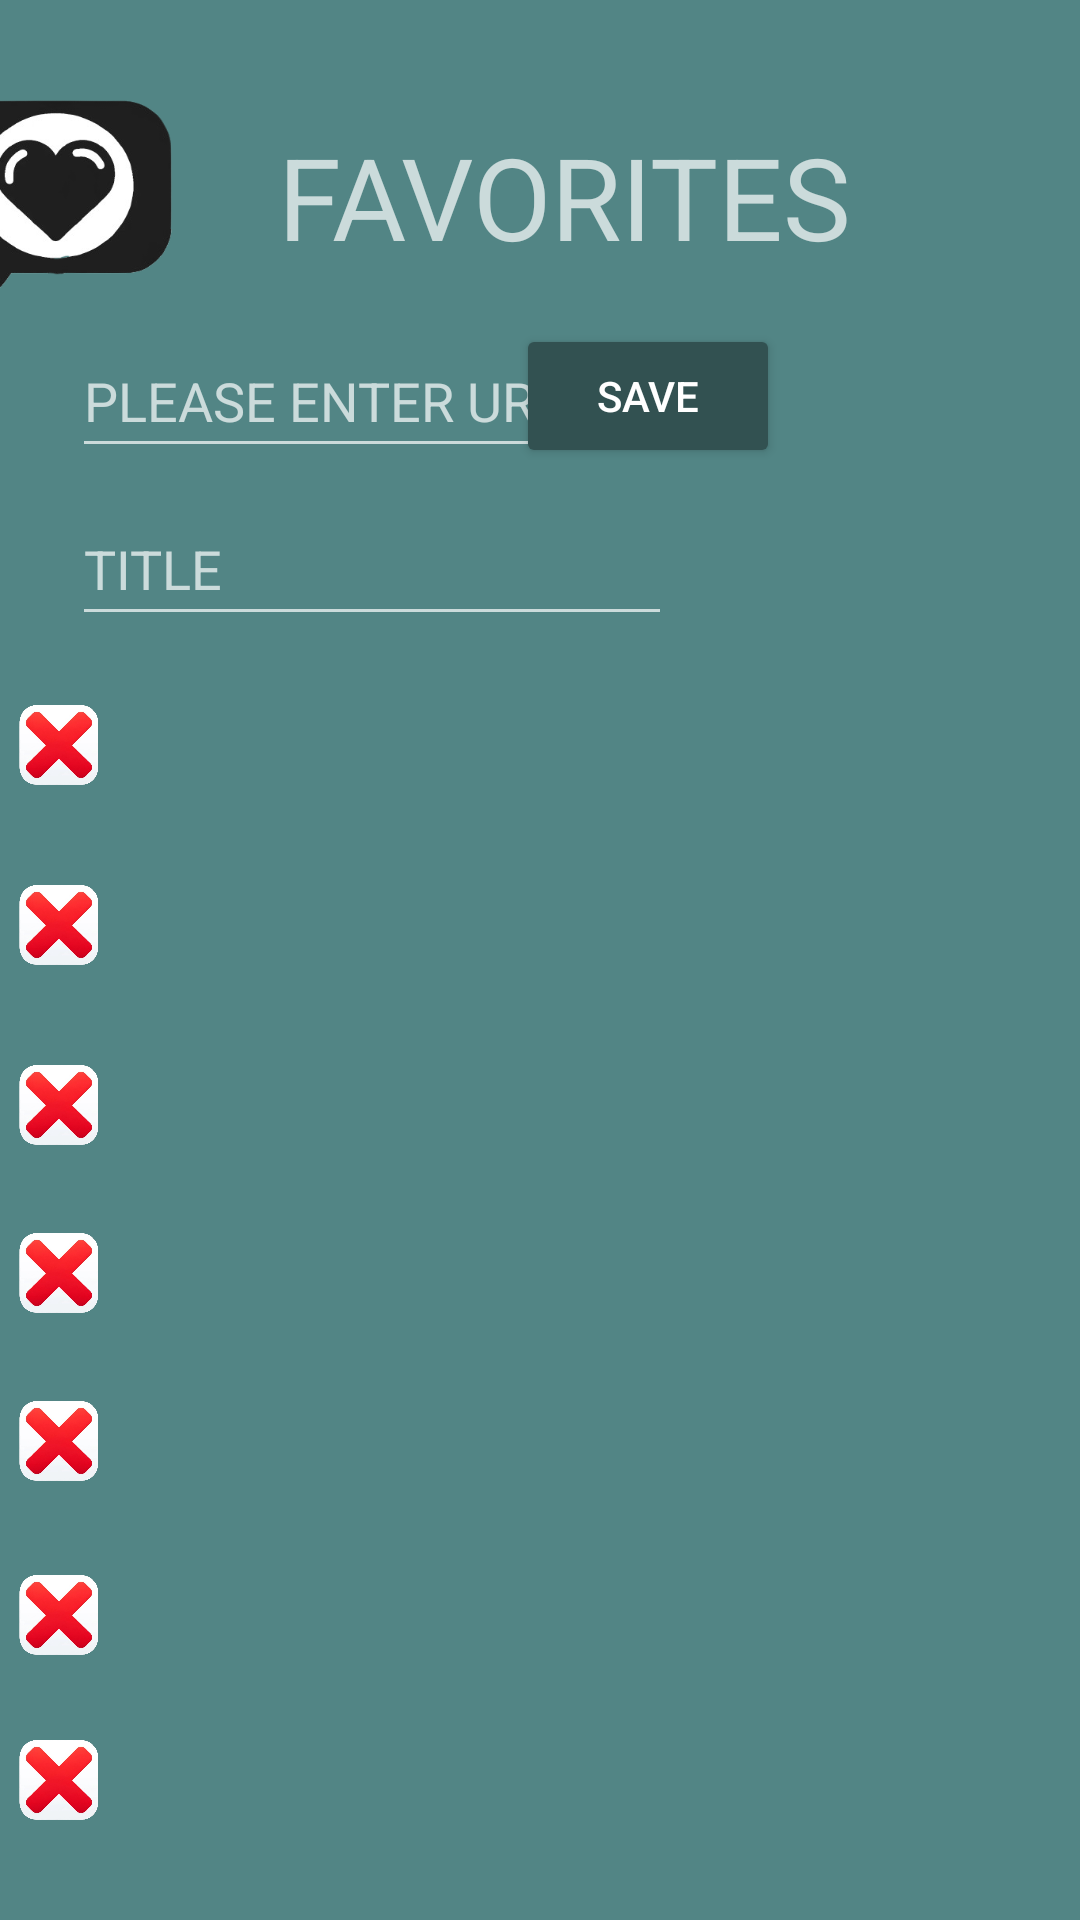

Where icons sit on this 1080*1920 app screen, as Rect(x1, y1, x2, y2):
delete: Rect(19, 705, 98, 785), Rect(19, 885, 98, 965), Rect(19, 1065, 98, 1145), Rect(19, 1233, 98, 1313), Rect(19, 1401, 98, 1481), Rect(19, 1575, 98, 1655), Rect(19, 1740, 98, 1820)
